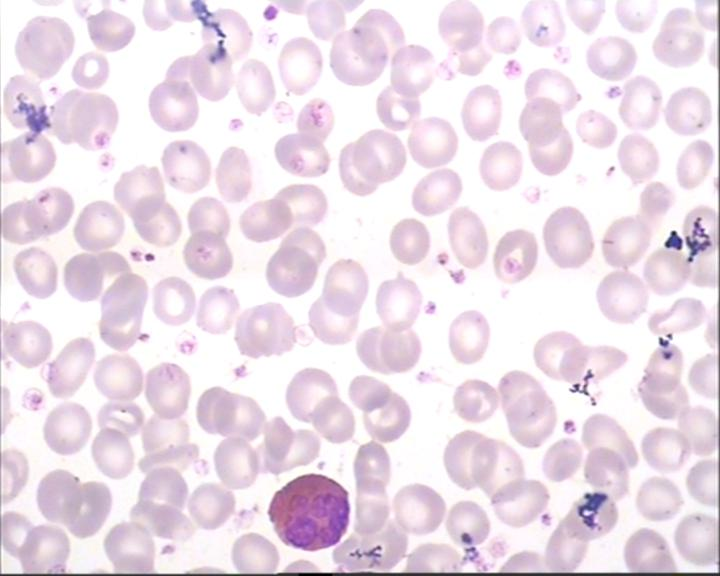eosi: (264, 469, 357, 552)
